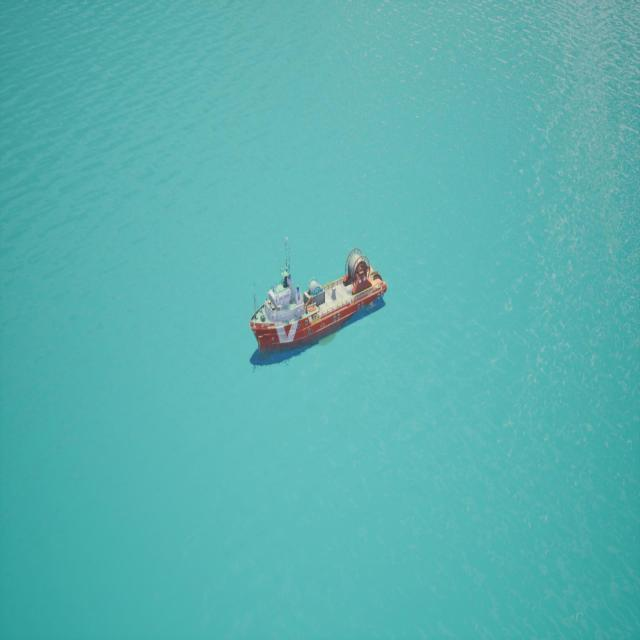tug boat: (249, 240, 389, 368)
